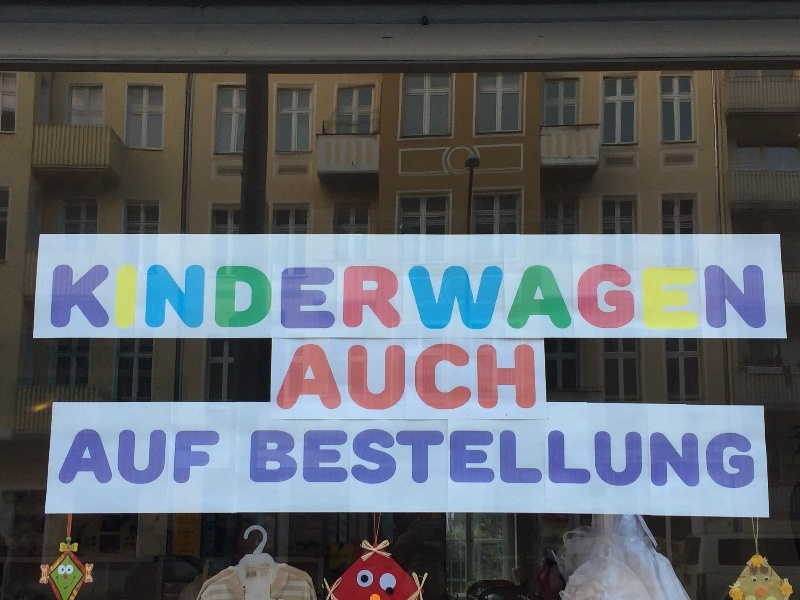text: (305, 344, 320, 412), (321, 344, 336, 412), (337, 344, 352, 412), (353, 344, 368, 412), (369, 344, 384, 412), (385, 344, 400, 412), (401, 344, 416, 412), (417, 344, 432, 412), (433, 344, 448, 412), (449, 344, 464, 412), (465, 344, 480, 412), (481, 344, 496, 412), (497, 344, 512, 412), (513, 344, 528, 412), (65, 265, 80, 331), (81, 265, 96, 331), (97, 265, 112, 331), (113, 265, 128, 331), (129, 265, 144, 331), (145, 265, 160, 331), (161, 265, 176, 331), (177, 265, 192, 331), (193, 265, 208, 331), (209, 265, 224, 331), (225, 265, 240, 331), (241, 265, 256, 331), (257, 265, 272, 331), (273, 265, 288, 331), (289, 265, 304, 331), (305, 265, 320, 331), (321, 265, 336, 331), (337, 265, 352, 331), (353, 265, 368, 331), (369, 265, 384, 331), (385, 265, 400, 331), (401, 265, 416, 331), (417, 265, 432, 331), (433, 265, 448, 331), (449, 265, 464, 331), (465, 265, 480, 331), (481, 265, 496, 331), (497, 265, 512, 331), (513, 265, 528, 331), (529, 265, 544, 331), (545, 265, 560, 331), (561, 265, 576, 331), (577, 265, 592, 331), (593, 265, 608, 331), (609, 265, 624, 331), (625, 265, 640, 331), (641, 265, 656, 331), (657, 265, 672, 331), (673, 265, 688, 331), (689, 265, 704, 331), (705, 265, 720, 331), (721, 265, 736, 331), (737, 265, 752, 331), (753, 265, 768, 331), (257, 429, 272, 491), (273, 429, 288, 491), (289, 429, 304, 491), (305, 429, 320, 491), (321, 429, 336, 491), (337, 429, 352, 491), (353, 429, 368, 491), (369, 429, 384, 491), (385, 429, 400, 491), (401, 429, 416, 491), (417, 429, 432, 491), (433, 429, 448, 491), (449, 429, 464, 491), (465, 429, 480, 491), (481, 429, 496, 491), (497, 429, 512, 491), (513, 429, 528, 491), (529, 429, 544, 491), (545, 429, 560, 491), (561, 429, 576, 491), (577, 429, 592, 491), (593, 429, 608, 491), (609, 429, 624, 491), (625, 429, 640, 491), (641, 429, 656, 491), (657, 429, 672, 491), (673, 429, 688, 491), (689, 429, 704, 491), (705, 429, 720, 491), (721, 429, 736, 491), (737, 429, 752, 491), (209, 429, 225, 485), (81, 429, 96, 485), (97, 429, 112, 485), (113, 429, 128, 485), (129, 429, 144, 485), (145, 429, 160, 485), (161, 429, 176, 485), (177, 429, 192, 485), (193, 429, 208, 485), (53, 265, 64, 331), (529, 344, 537, 412), (298, 344, 304, 412), (251, 429, 256, 491), (753, 429, 758, 491), (78, 429, 80, 485), (769, 265, 770, 331)
